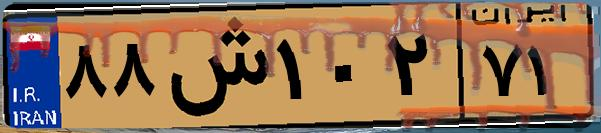0: (330, 28, 385, 110)
1: (270, 28, 330, 110), (525, 38, 570, 115)
2: (385, 28, 445, 110)
7: (475, 38, 525, 113)
8: (57, 26, 110, 100), (110, 28, 158, 98)
ش: (158, 12, 270, 120)
